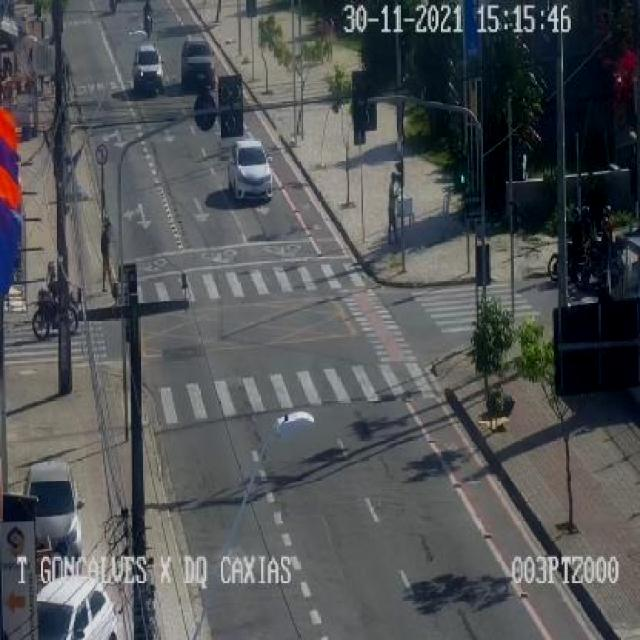Car: (20, 459, 89, 558), (21, 577, 117, 640), (228, 142, 273, 206), (181, 34, 215, 90), (130, 46, 166, 91)
Cycle: (30, 300, 80, 342), (144, 15, 154, 41)
